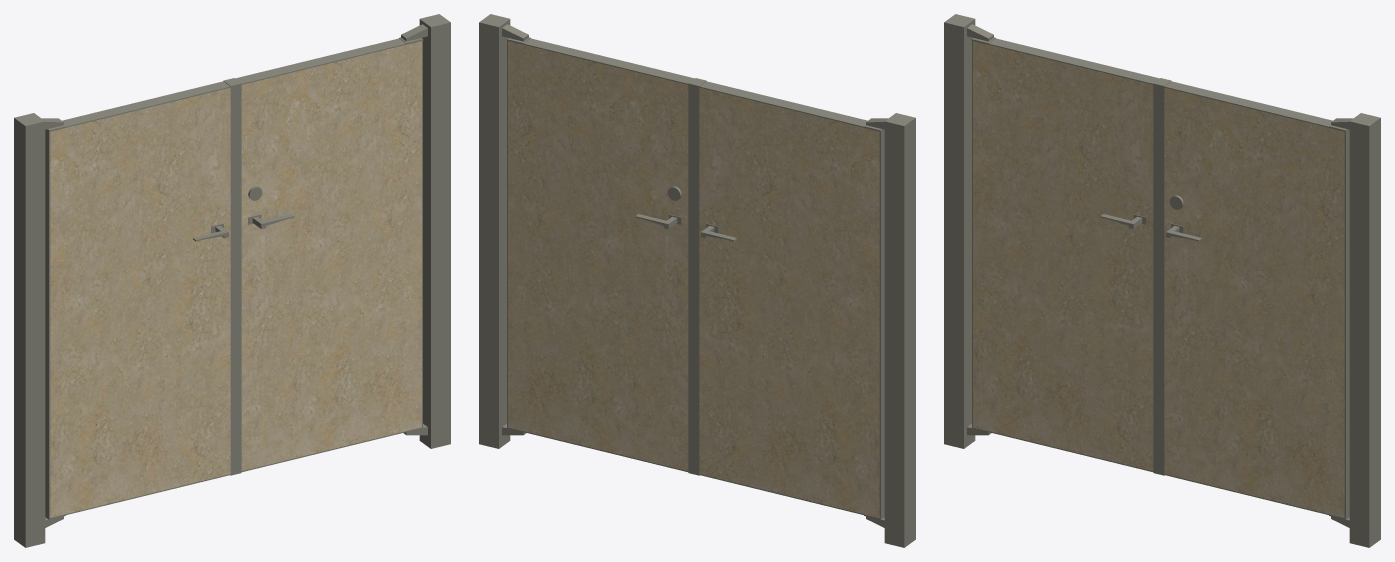
File: abmonpi-flat_h1400-w700-700_travartine.fbx
3 views of the same model, side by side, from view 1: azimuth 30°, elevation 25°; view 2: azimuth 150°, elevation 25°; view 3: azimuth 330°, elevation 25° (orthographic).
Visible parts, largest first — view 1: abmonpi-flat_h1400-w700-700_brackebony.005; view 2: abmonpi-flat_h1400-w700-700_brackebony.005; view 3: abmonpi-flat_h1400-w700-700_brackebony.005.
Boxes of the visible parts, <box> form: abmonpi-flat_h1400-w700-700_brackebony.005: <box>14,14,450,547</box>; abmonpi-flat_h1400-w700-700_brackebony.005: <box>479,14,915,547</box>; abmonpi-flat_h1400-w700-700_brackebony.005: <box>944,14,1380,547</box>.
Bounding box in the file's own units: 160 × 152 × 16.7.
Materials: 2 (2 with a texture image).
